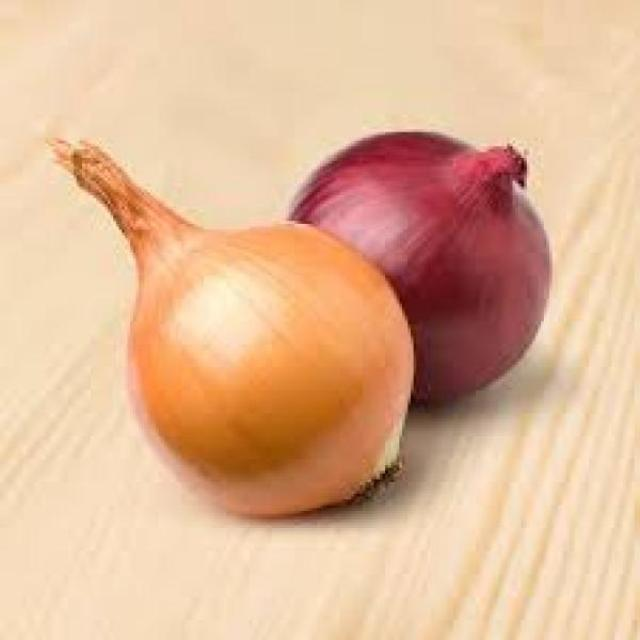Onion: (49, 140, 417, 521), (279, 130, 554, 406)
